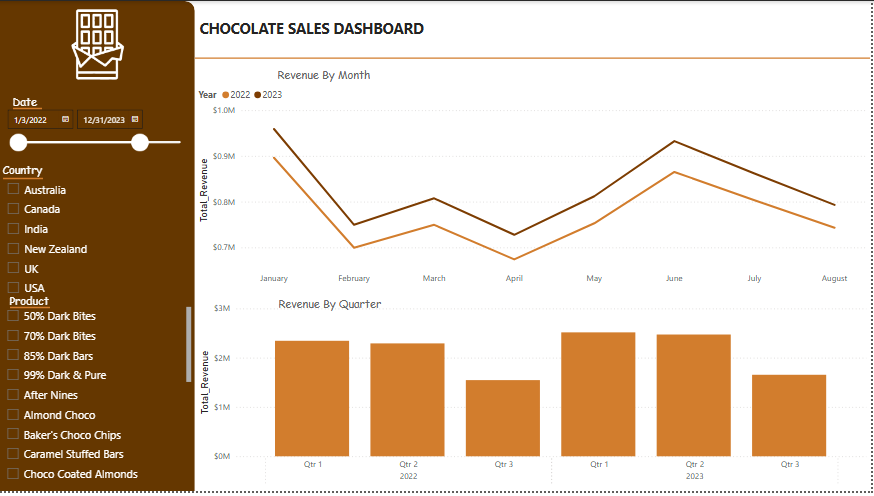

The page's visual inventory and layout, read from the dashboard file:
{"tool":"powerbi","page":{"name":"Page 2","canvas":[1280,720],"ordinal":1},"visuals":[{"type":"shape","box":[0,0,287.7,719.8],"z":0},{"type":"shape","box":[287.7,0,992.3,167.9],"z":1000},{"type":"textbox","box":[289,20.6,747.4,49.5],"z":2000},{"type":"clusteredColumnChart","fields":{"Category":["calendar_table.Date.Variation.Date Hierarchy.Year","calendar_table.Date.Variation.Date Hierarchy.Quarter"],"Y":["Measure_Table.Total_Revenue"]},"box":[289.5,437.9,990.4,282.1],"z":3000},{"type":"lineChart","fields":{"Y":["Measure_Table.Total_Revenue"],"Series":["calendar_table.Date.Variation.Date Hierarchy.Year"],"Category":["calendar_table.Date.Variation.Date Hierarchy.Month"]},"box":[288,117.6,991.8,308.6],"z":4000},{"type":"textbox","box":[404.8,91.7,235.4,72.9],"z":5000},{"type":"textbox","box":[406,427.9,235.4,72.9],"z":6000},{"type":"slicer","fields":{"Values":["calendar_table.Date"]},"box":[-0.6,149.6,288,101.4],"z":7000},{"type":"slicer","fields":{"Values":["DataTable.Country"]},"box":[-0.6,256.9,288,186.6],"z":8000},{"type":"slicer","fields":{"Values":["DataTable.Product"]},"box":[-0.6,444,287.7,276.6],"z":9000},{"type":"textbox","box":[15.3,130.2,83.8,39.7],"z":10000},{"type":"textbox","box":[-0.6,230.4,83.8,39.7],"z":11000},{"type":"shape","box":[5.3,230.4,58.8,60.2],"z":12000},{"type":"shape","box":[20,127.6,42.6,60.2],"z":13000},{"type":"textbox","box":[10,422.9,83.8,39.7],"z":14000},{"type":"shape","box":[15.9,420,58.8,60.2],"z":15000},{"type":"image","box":[0,8.8,288,110.2],"z":15001}]}

Visuals, with their boxes in screenshot pixels (x1, y1, x2, y2), scaled from the page's 1280x720 canvas onto the 874x496 screenshot:
shape: pyautogui.locateOnScreen(0, 0, 196, 495)
shape: pyautogui.locateOnScreen(196, 0, 873, 116)
textbox: pyautogui.locateOnScreen(197, 14, 708, 48)
clusteredColumnChart - calendar_table.Date.Variation.Date Hierarchy.Year x calendar_table.Date.Variation.Date Hierarchy.Quarter: pyautogui.locateOnScreen(198, 302, 873, 495)
lineChart - Measure_Table.Total_Revenue x calendar_table.Date.Variation.Date Hierarchy.Year: pyautogui.locateOnScreen(197, 81, 873, 294)
textbox: pyautogui.locateOnScreen(276, 63, 437, 113)
textbox: pyautogui.locateOnScreen(277, 295, 438, 345)
slicer - calendar_table.Date: pyautogui.locateOnScreen(0, 103, 196, 173)
slicer - DataTable.Country: pyautogui.locateOnScreen(0, 177, 196, 306)
slicer - DataTable.Product: pyautogui.locateOnScreen(0, 306, 196, 495)
textbox: pyautogui.locateOnScreen(10, 90, 68, 117)
textbox: pyautogui.locateOnScreen(0, 159, 57, 186)
shape: pyautogui.locateOnScreen(4, 159, 44, 200)
shape: pyautogui.locateOnScreen(14, 88, 43, 129)
textbox: pyautogui.locateOnScreen(7, 291, 64, 319)
shape: pyautogui.locateOnScreen(11, 289, 51, 331)
image: pyautogui.locateOnScreen(0, 6, 197, 82)
